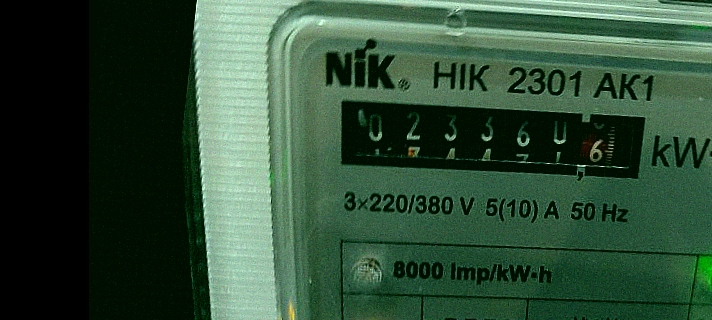0: (363, 108, 388, 144), (546, 114, 572, 148)
2: (402, 107, 425, 142)
3: (476, 109, 499, 144), (438, 110, 460, 143)
6: (584, 132, 609, 167), (511, 114, 535, 150)
screen: (317, 73, 664, 204)
